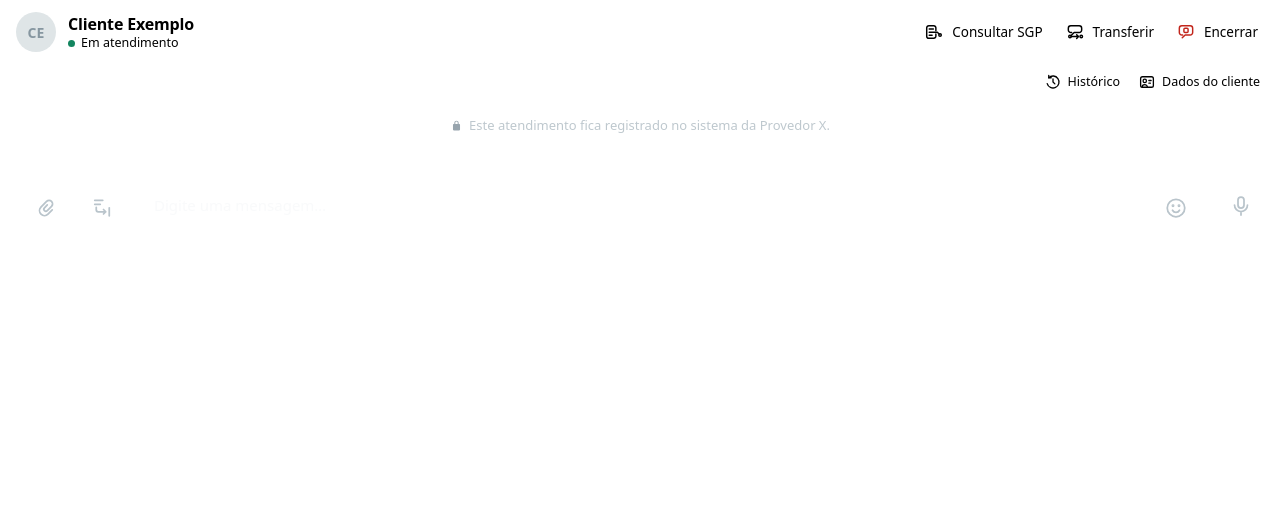
Test: Editar cliente e Atendimentos anteriores sob demanda › abrir a conversa e o painel "Dados do cliente" não traz nenhum dos dois
Click the button "Dados do cliente" at point(1199, 82), box left=1130, top=66, right=1268, bottom=98
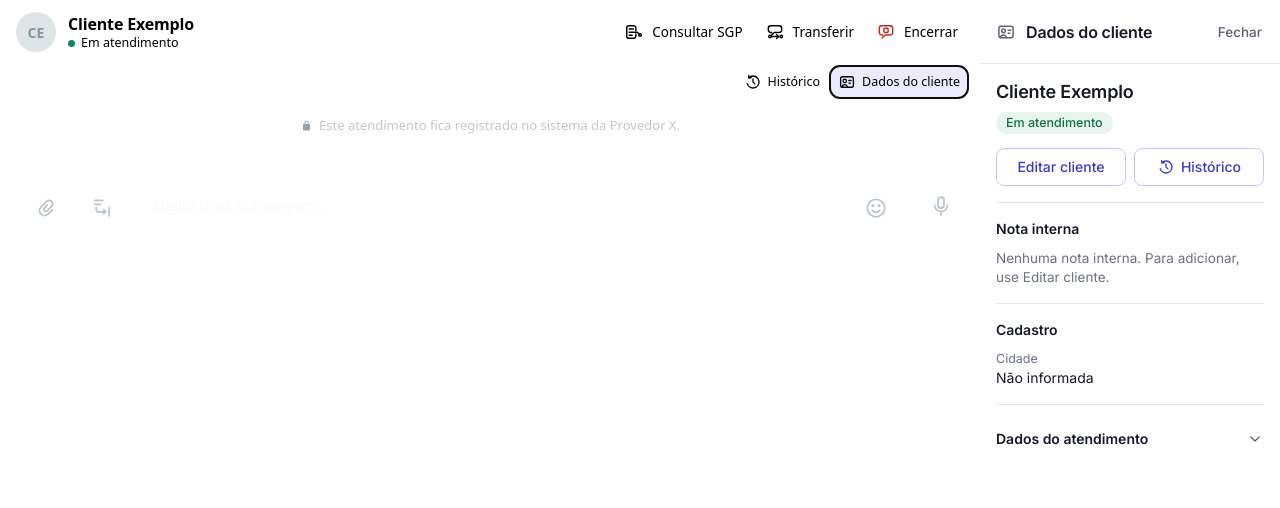
Expected: the element "Dados do cliente" is shown, left=980, top=0, right=1279, bottom=491
